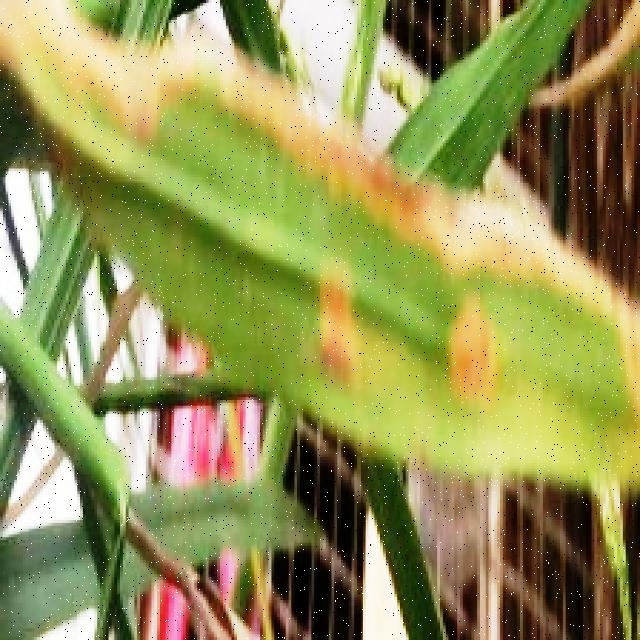unhealth: (0, 2, 640, 495)
